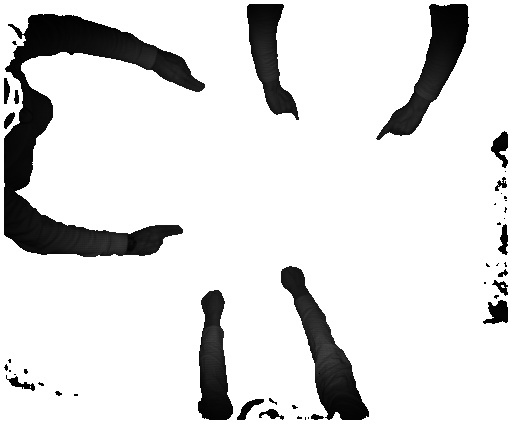fist: (280, 264, 311, 294), (200, 288, 231, 316)
hand: (160, 51, 207, 95), (376, 103, 421, 143), (138, 224, 183, 255), (263, 89, 303, 119)
